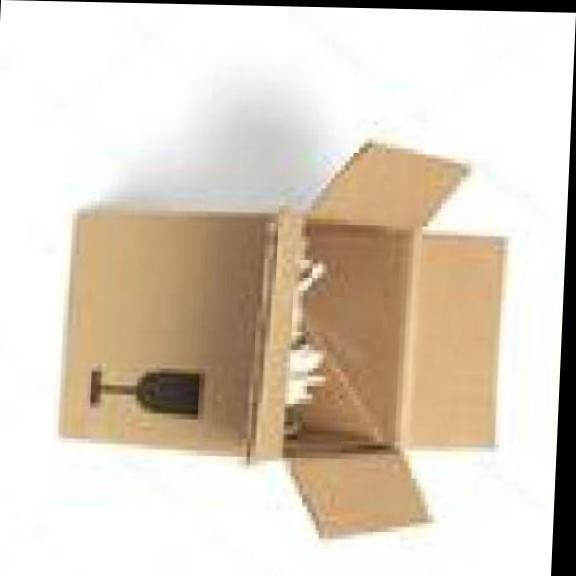Kertas: (61, 145, 505, 537)
